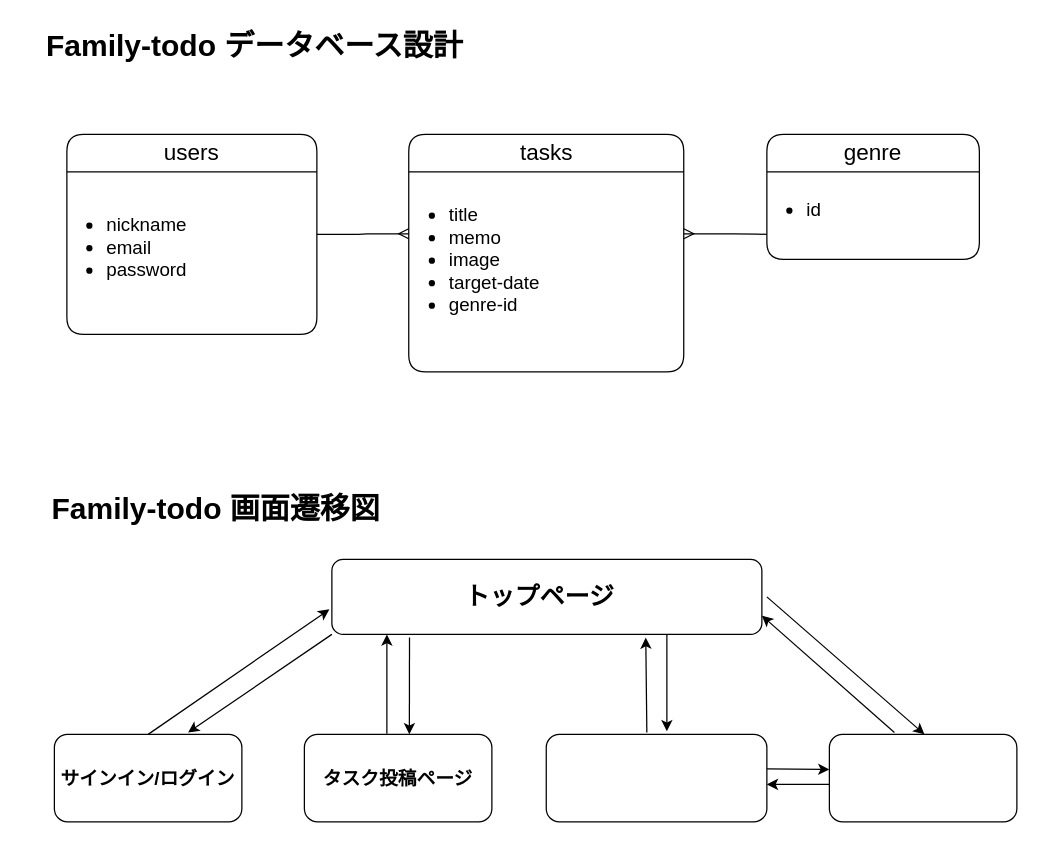
This 1039x844 diagram has some shape labels left out. The centre of each missing label's shape, as x and y in pixels:
"タスク編集・削除ページ" belongs at point 656,777.
"タスク詳細ページ" belongs at point 922,777.
